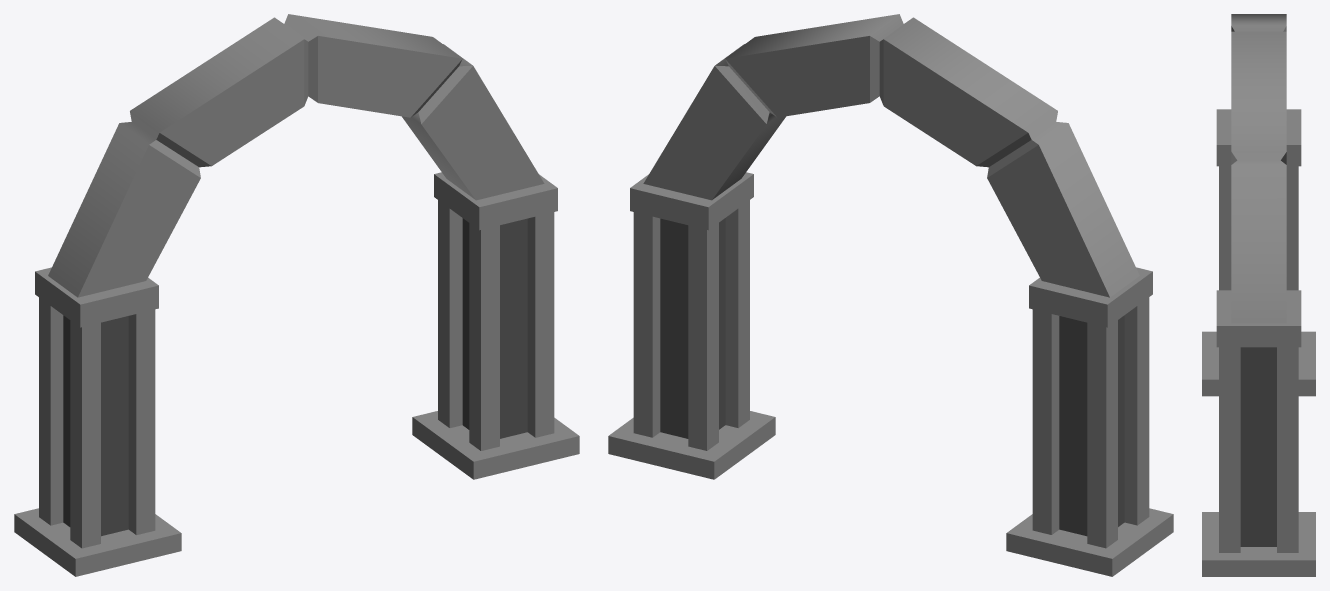
Rendered from Dungeon Arc 01.FBX.
The picture shows the model from 3 angles, left to right: view 1: azimuth 30°, elevation 25°; view 2: azimuth 150°, elevation 25°; view 3: azimuth 270°, elevation 25°; orthographic projection. The views are drawn at different scales.
Visible parts, largest first — view 1: Arc 01; view 2: Arc 01; view 3: Arc 01.
Part boxes in pixels (x1,y1,x2,y2): Arc 01: (14, 14, 579, 576); Arc 01: (608, 14, 1173, 576); Arc 01: (1202, 14, 1315, 576).
Size of the model in its own units: 426 by 376 by 89.46.
